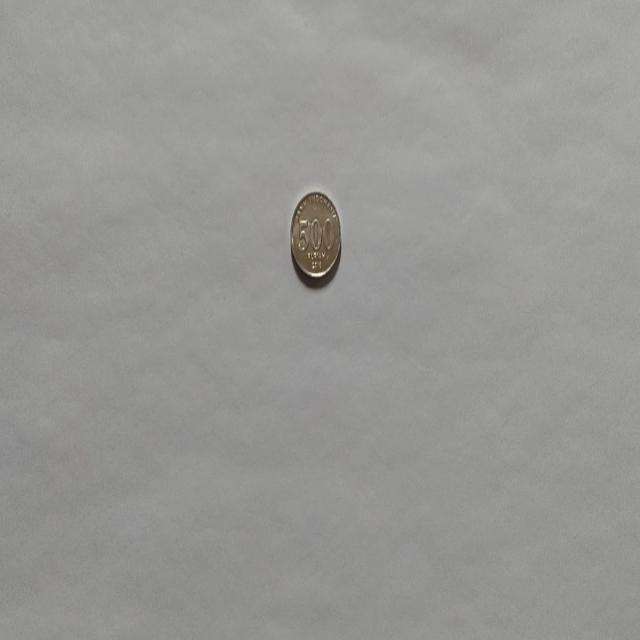lima ratus rupiah: (288, 190, 342, 284)
